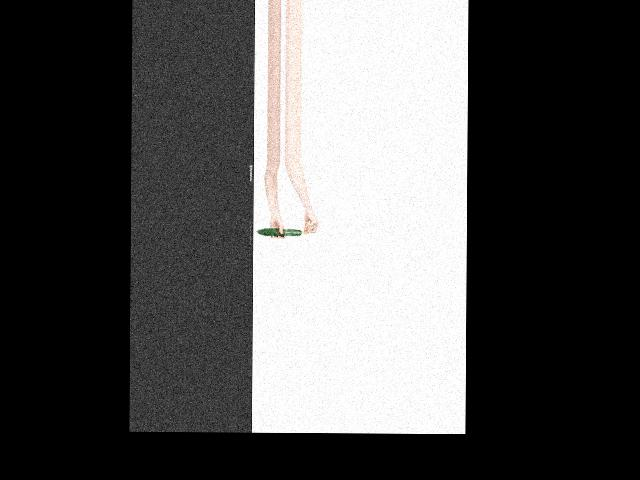cucumber: (255, 229, 301, 236)
